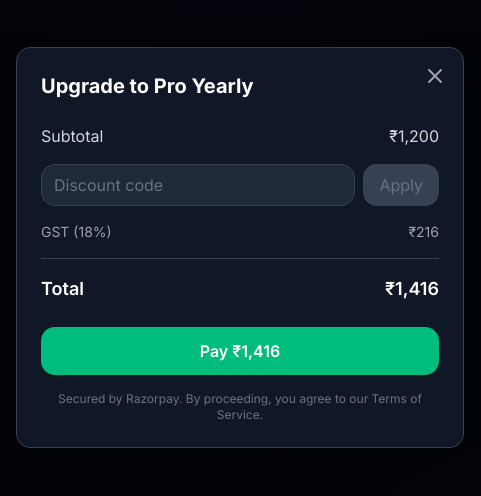
Test: CheckoutModal › discount code › should display error for invalid discount code
In the field with placeholder "Discount code": (198, 184) x1=41 y1=164 x2=355 y2=206, type "INVALID"
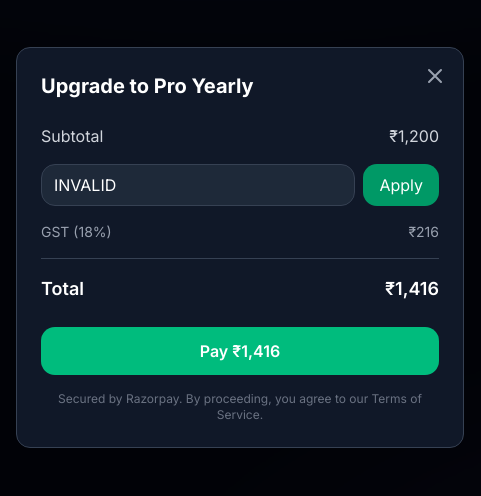
Click the button "Apply": (401, 184) x1=363 y1=164 x2=439 y2=206
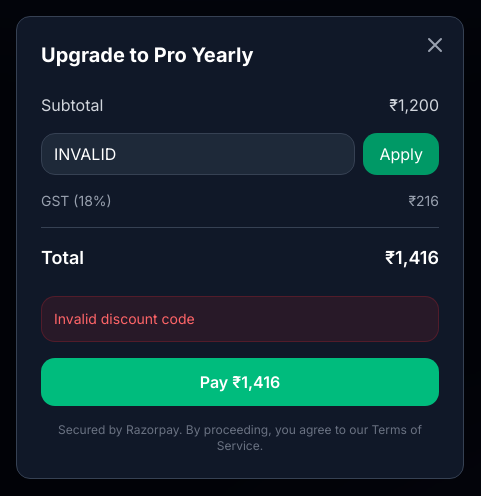
Check: the text "Invalid discount code" is shown, box x1=41 y1=296 x2=439 y2=342
